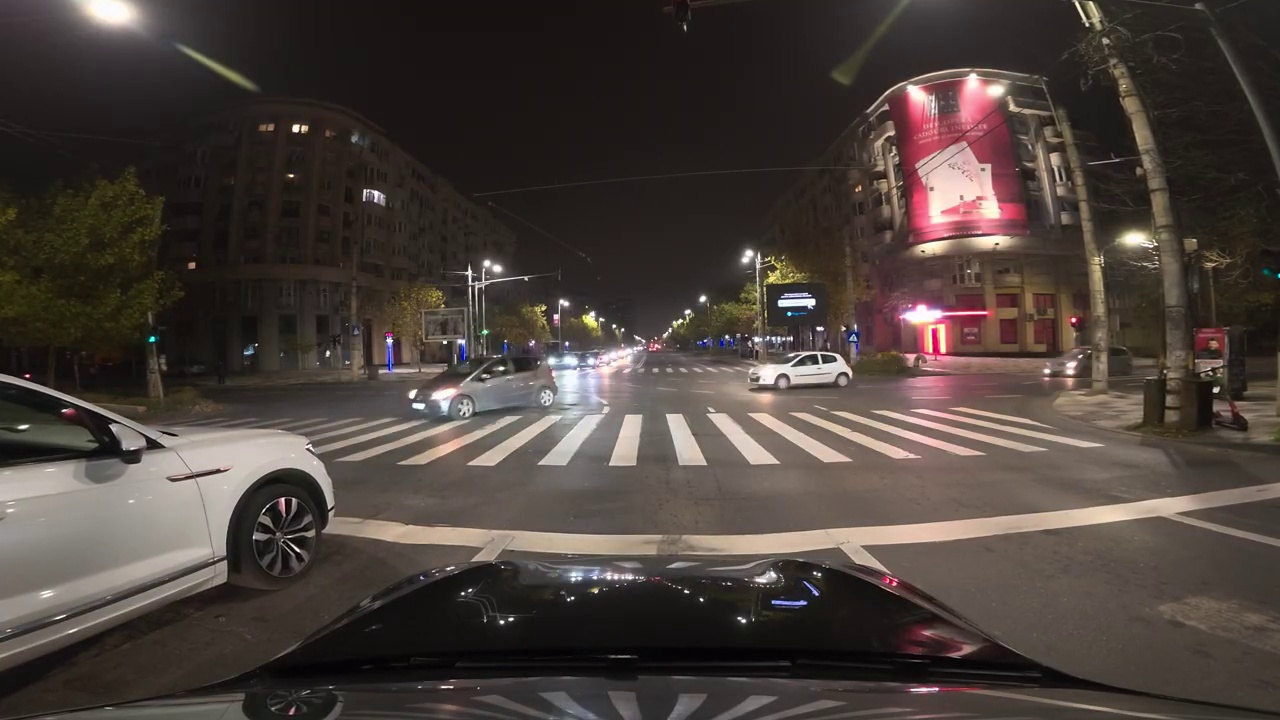acesa: (78, 0, 140, 33), (738, 247, 756, 268)
